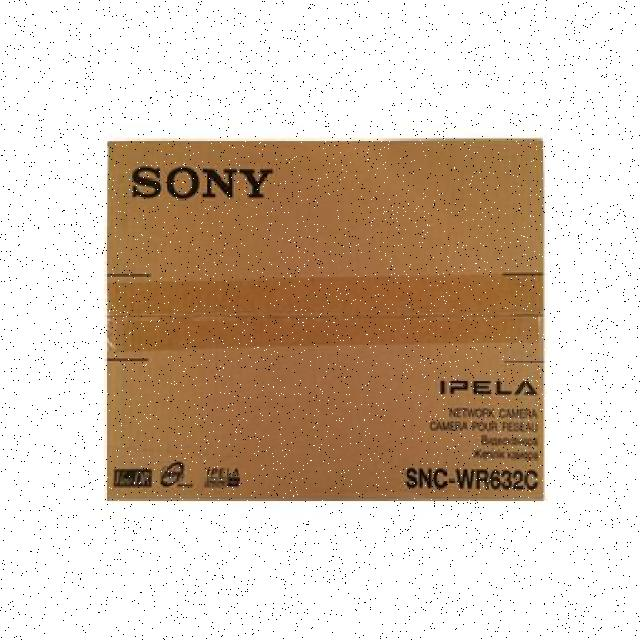normal: (86, 124, 560, 510)
